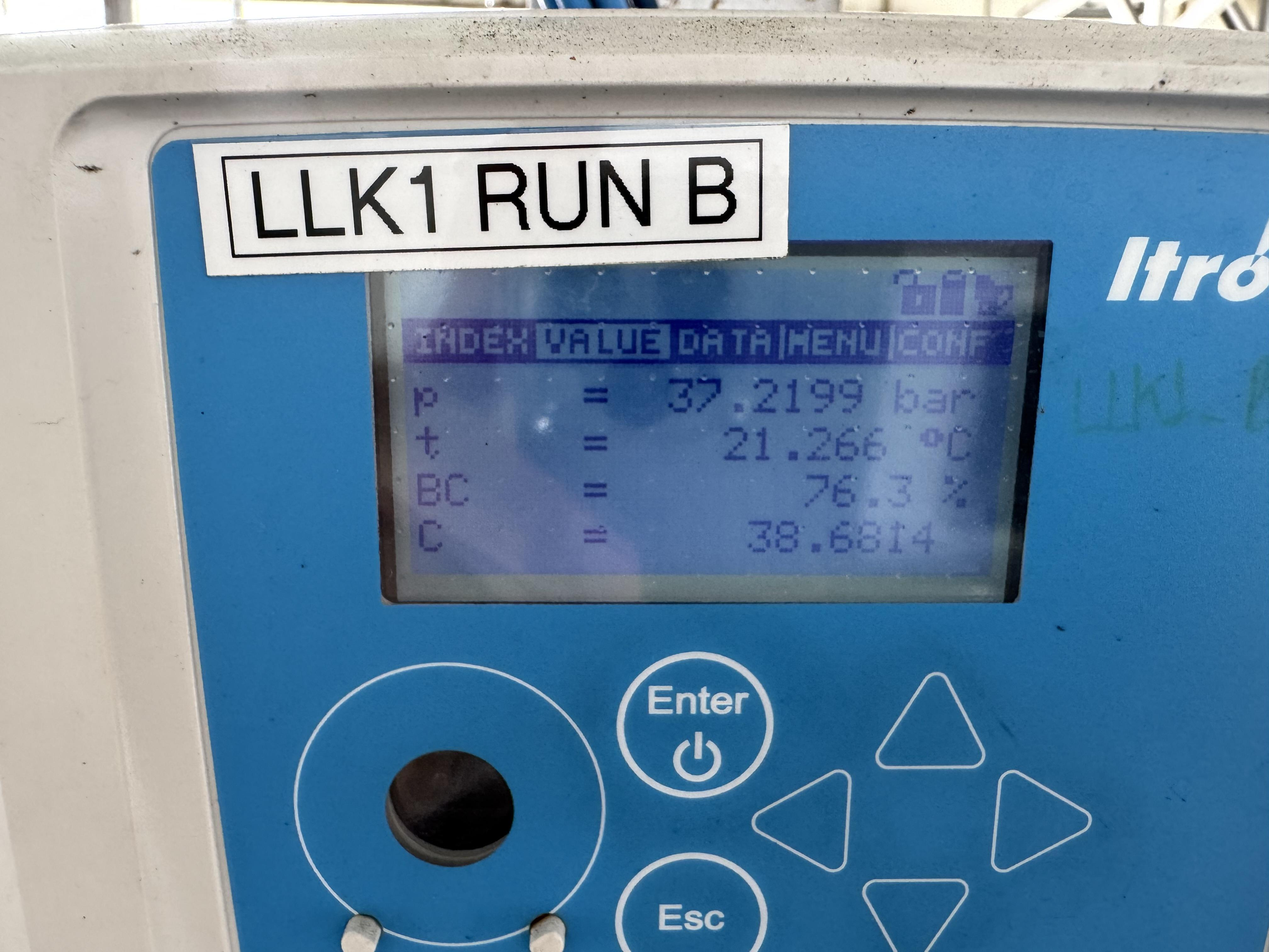digital_screen: (368, 241, 1058, 612)
